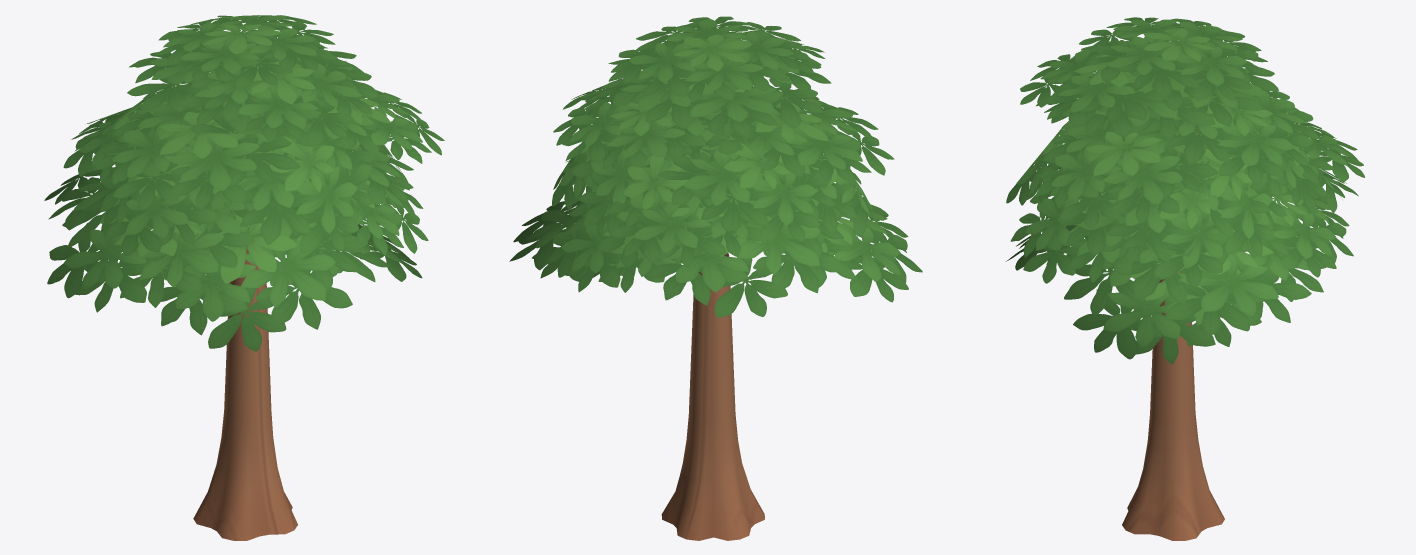
The model's file is pentaTree1.fbx.
3 renders of one model, left to right at view 1: azimuth 30°, elevation 25°; view 2: azimuth 150°, elevation 25°; view 3: azimuth 270°, elevation 25°, orthographic.
Visible parts, largest first — view 1: niceCrown1.003, trunk_lowP.001; view 2: niceCrown1.003, trunk_lowP.001; view 3: niceCrown1.003, trunk_lowP.001.
Part boxes in pixels (x1,y1,x2,y2): niceCrown1.003: [44, 15, 444, 351]; trunk_lowP.001: [193, 246, 297, 540]; niceCrown1.003: [509, 16, 922, 317]; trunk_lowP.001: [661, 253, 764, 540]; niceCrown1.003: [1006, 17, 1364, 364]; trunk_lowP.001: [1122, 271, 1224, 540].
Bounding box in the file's own units: 218 × 244 × 201.
